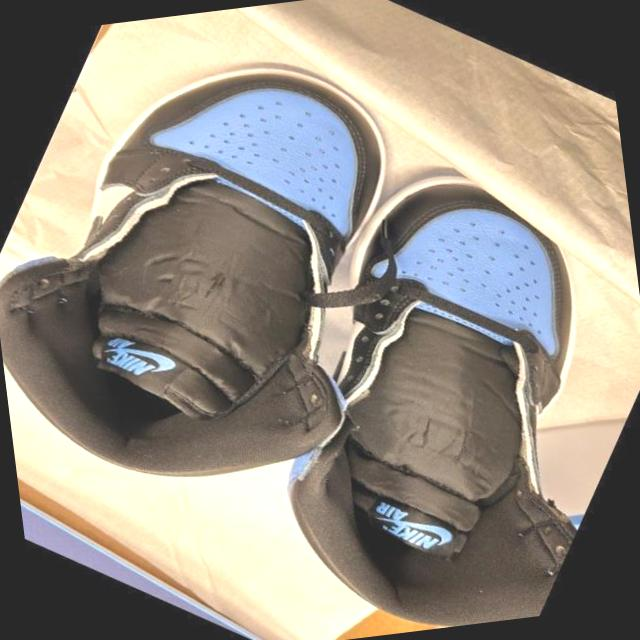nike_original_jordan: (0, 0, 516, 575), (178, 122, 640, 640)
